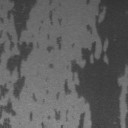red iron: (56, 0, 128, 128), (0, 0, 62, 128), (41, 0, 62, 26), (41, 108, 64, 128), (32, 92, 36, 102), (30, 112, 34, 120), (71, 43, 76, 48), (48, 64, 54, 68), (46, 90, 50, 94)
